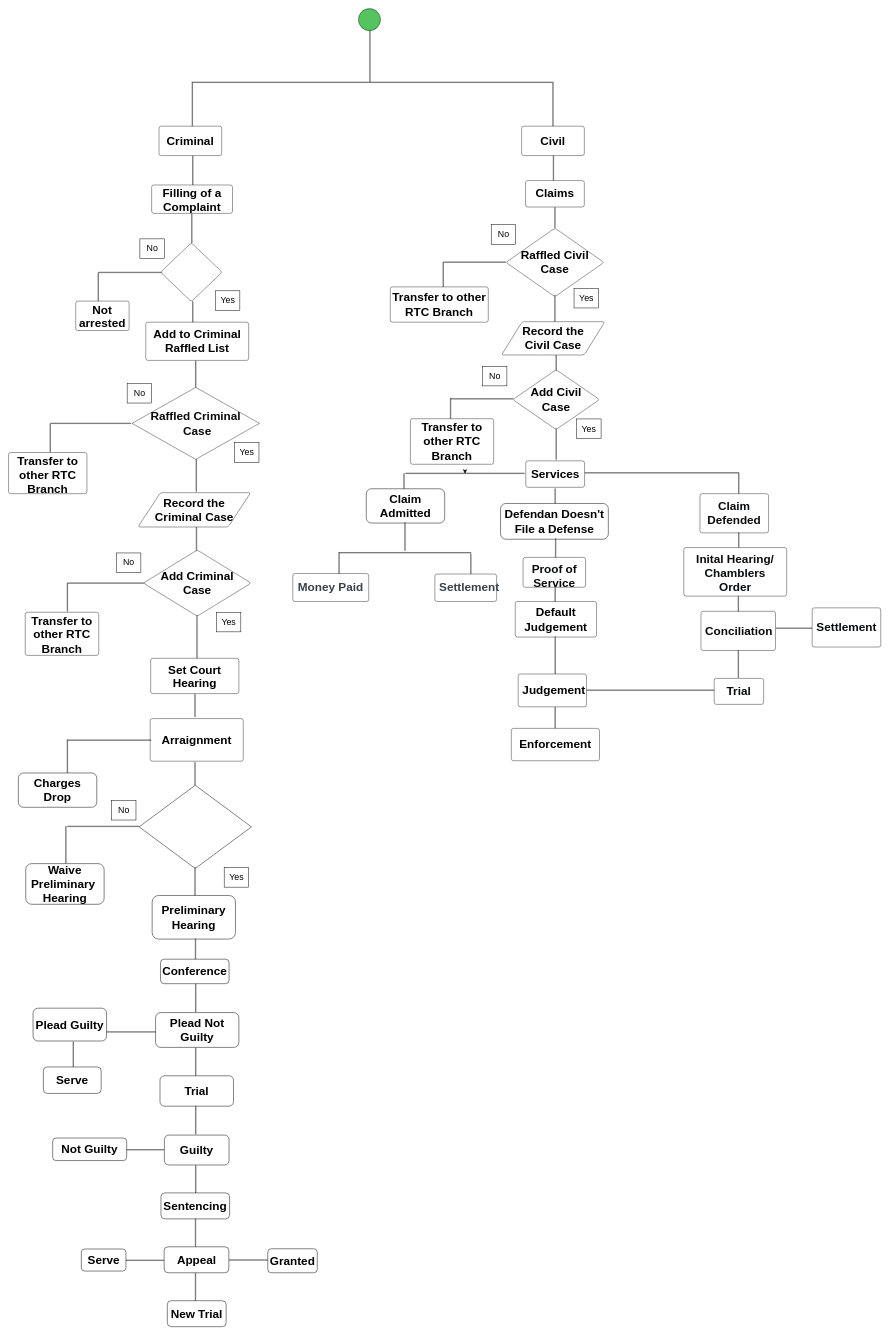
This 889x1335 diagram has some shape labels left out. Each missing label, with the centre of its shape:
"Arrest ?" goes at point 191,272.
"Proceed to Preliminary Hearing?" goes at point 195,827.
